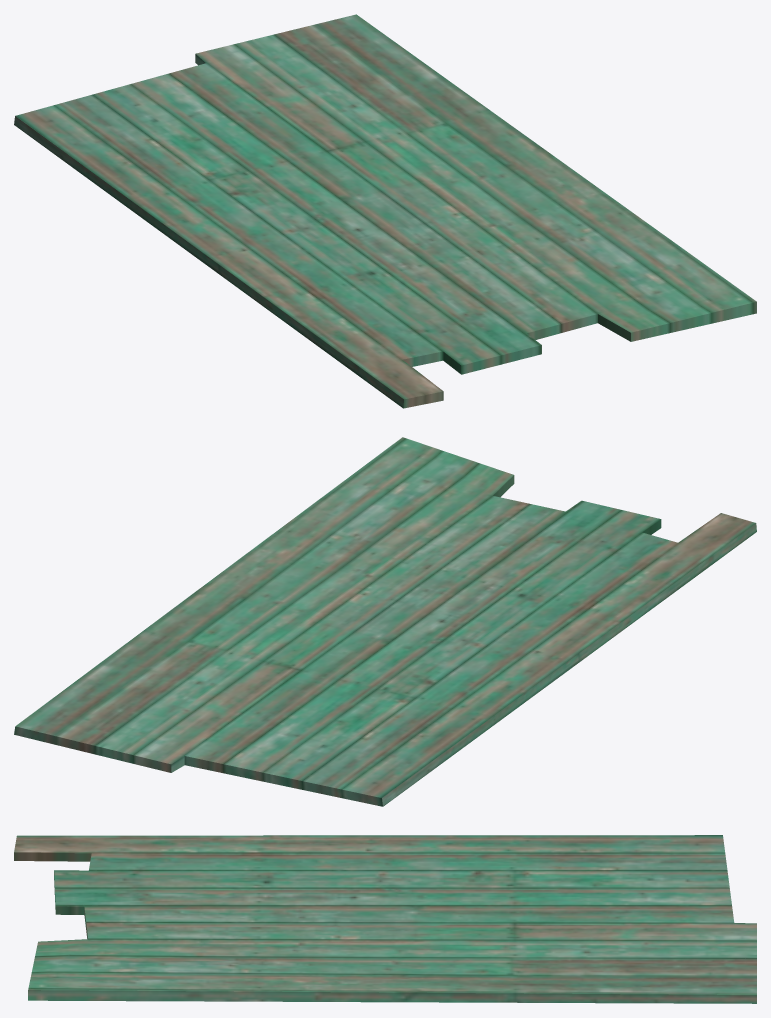
Rendered from wooden_plate1.fbx.
3 views of the same model, one above another, from view 1: azimuth 30°, elevation 25°; view 2: azimuth 150°, elevation 25°; view 3: azimuth 270°, elevation 25° (orthographic). The views are drawn at different scales.
Parts seen in each view (by area): view 1: wooden_plate01; view 2: wooden_plate01; view 3: wooden_plate01.
Part boxes in pixels (left/top/right/bottom): wooden_plate01: left=14, top=14, right=756, bottom=408; wooden_plate01: left=14, top=437, right=756, bottom=806; wooden_plate01: left=14, top=835, right=756, bottom=1003.
Bounding box in the file's own units: 157 × 6.3 × 307.
Materials: 1 (1 with a texture image).
